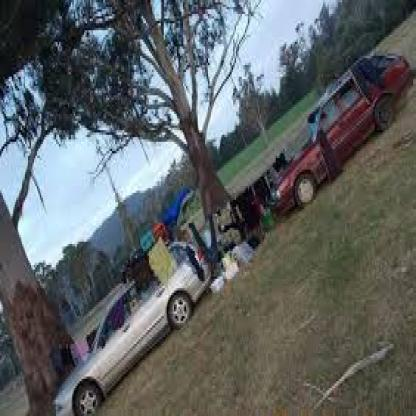car: (29, 236, 212, 416), (255, 58, 416, 228)
